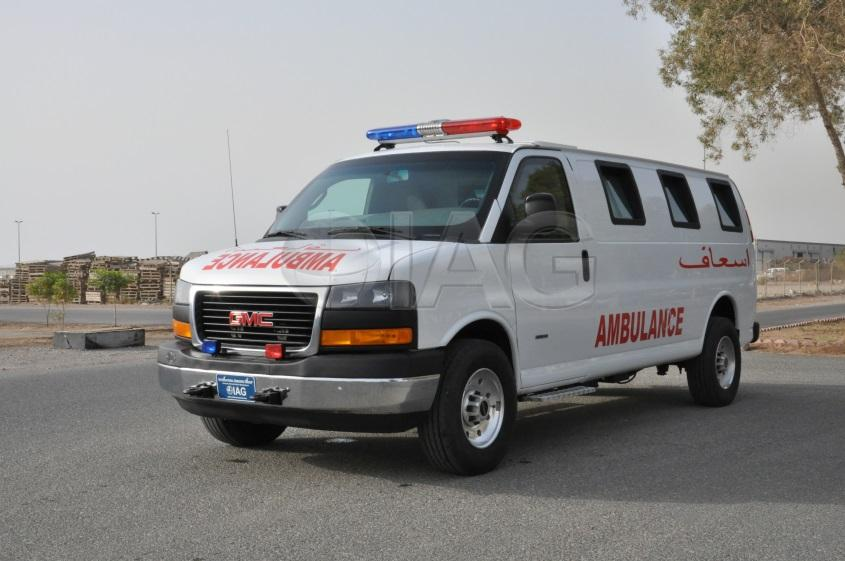ambulance_off: (158, 115, 762, 474)
